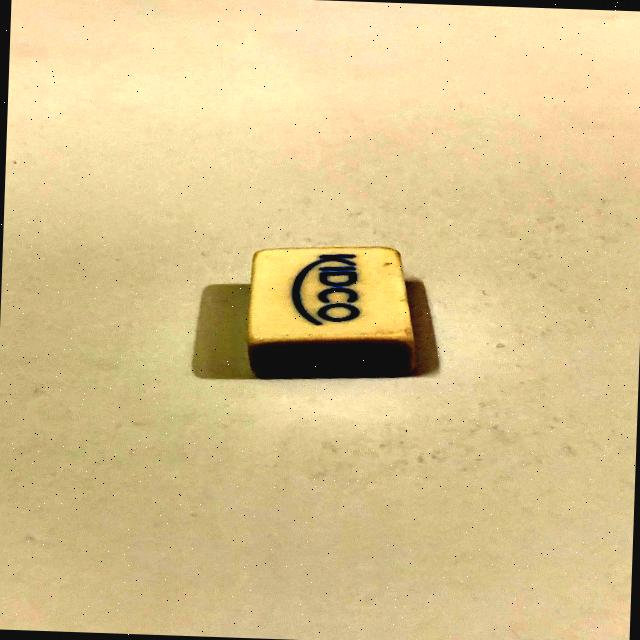Eraser: (212, 215, 466, 398)
